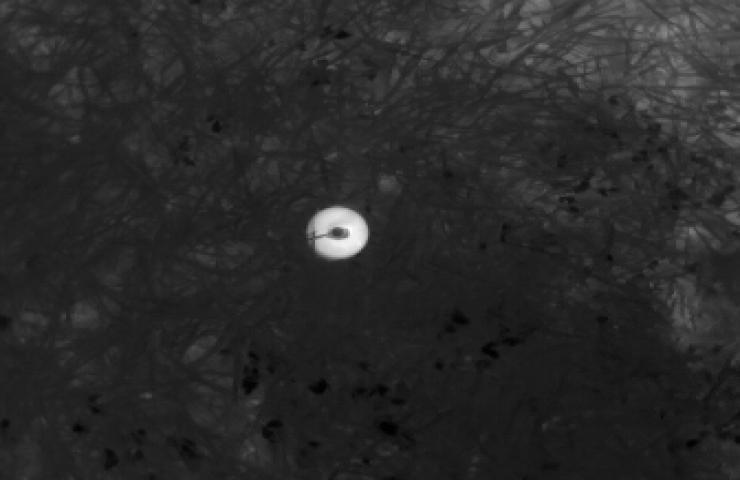landmines: (302, 204, 374, 263)
